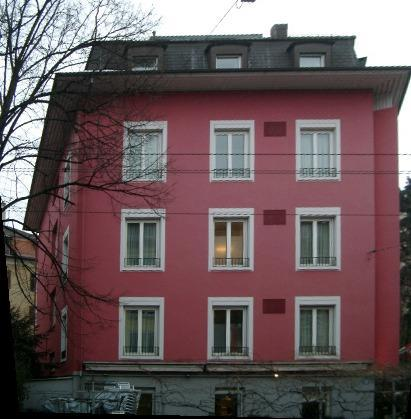window: (126, 218, 163, 268), (123, 306, 160, 356), (299, 306, 336, 356), (214, 217, 250, 268), (213, 306, 249, 357), (301, 217, 337, 267), (216, 129, 251, 178), (129, 129, 163, 179), (302, 128, 336, 178), (133, 56, 159, 71), (217, 55, 243, 70), (301, 53, 327, 68)
